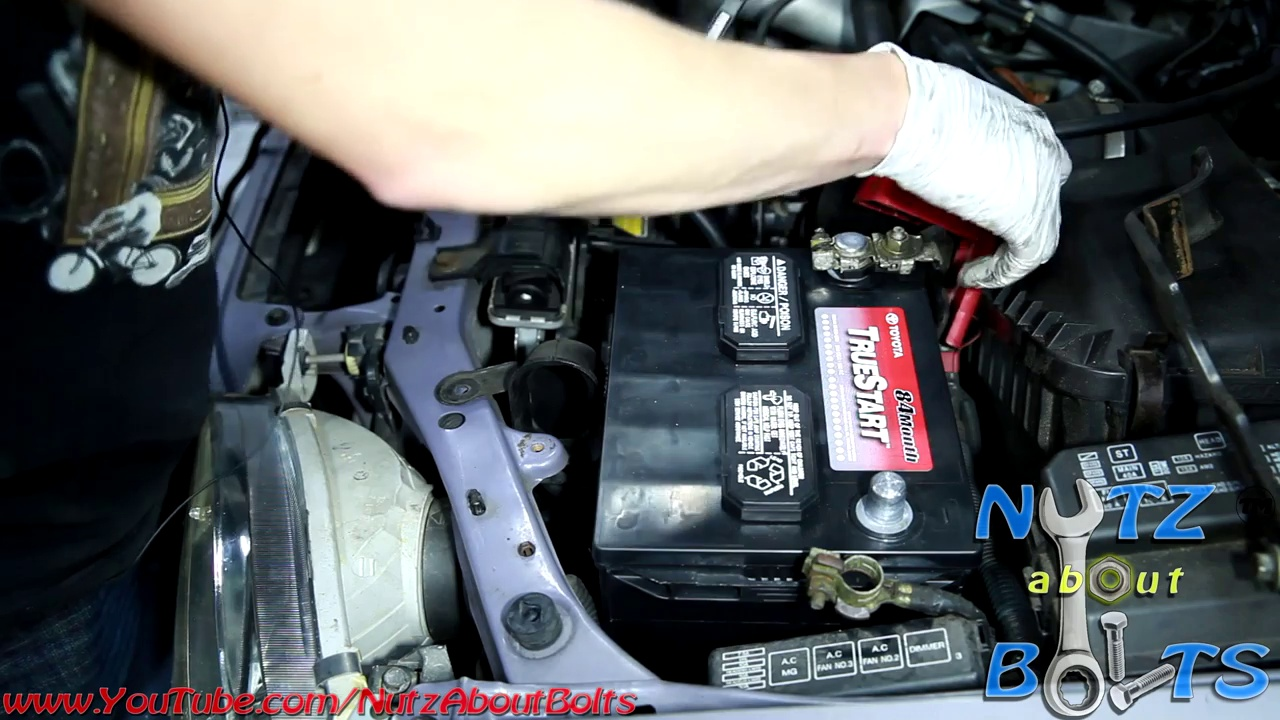battery: (604, 229, 989, 614)
neg_disconnected: (794, 461, 936, 616)
pos_connected: (795, 175, 1009, 296)
pos_touched: (807, 68, 1067, 305)
